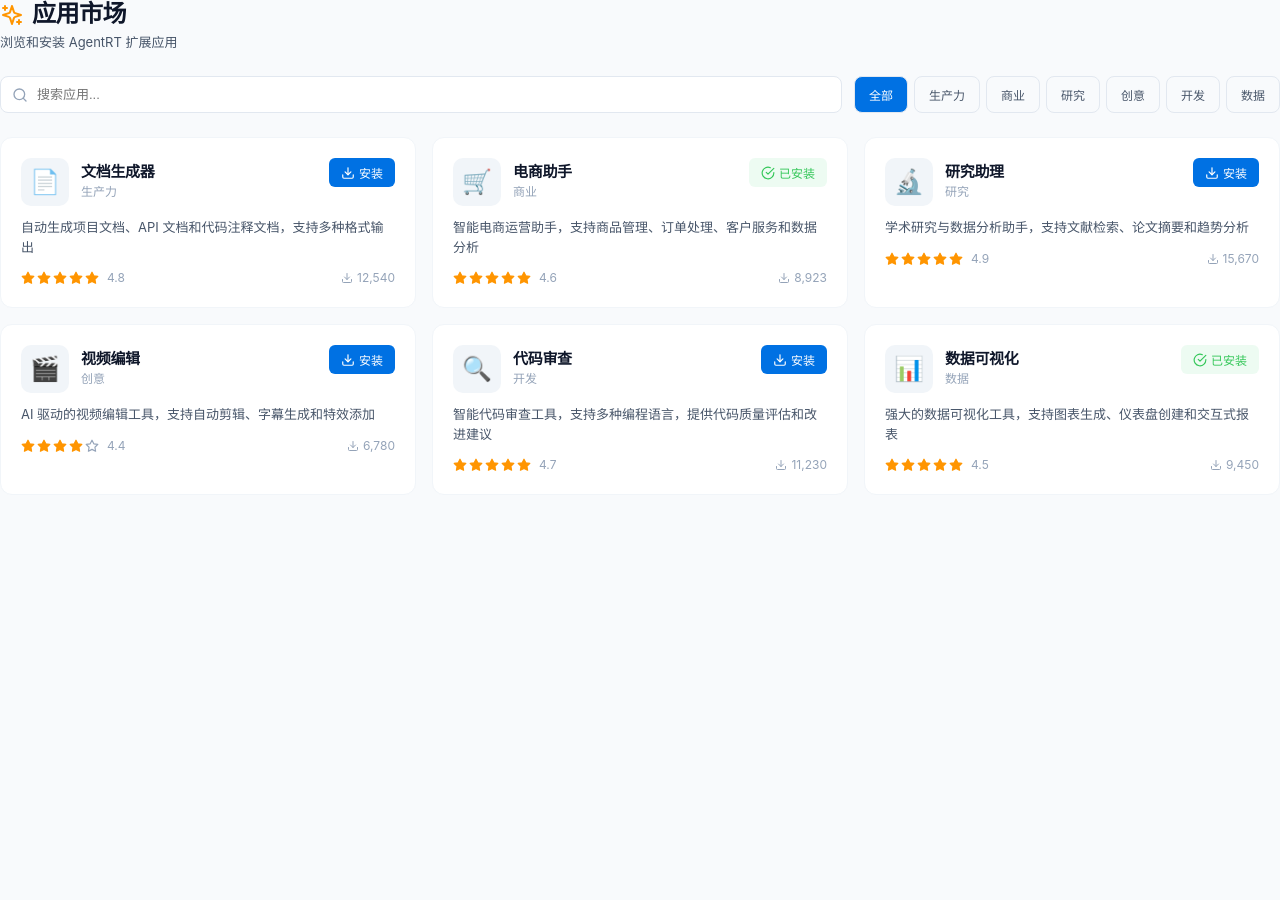
it: OpenLab › opens detail dialog when app card is clicked
The image size is (1280, 900).
Click the list item "📄 文档生成器 生产力 安装 自动生成项目文档、API 文档和代码注释文档，支持多种格式输出 4.8 12,540".
click(208, 223)  # box top-left (0, 137), bottom-right (416, 308)
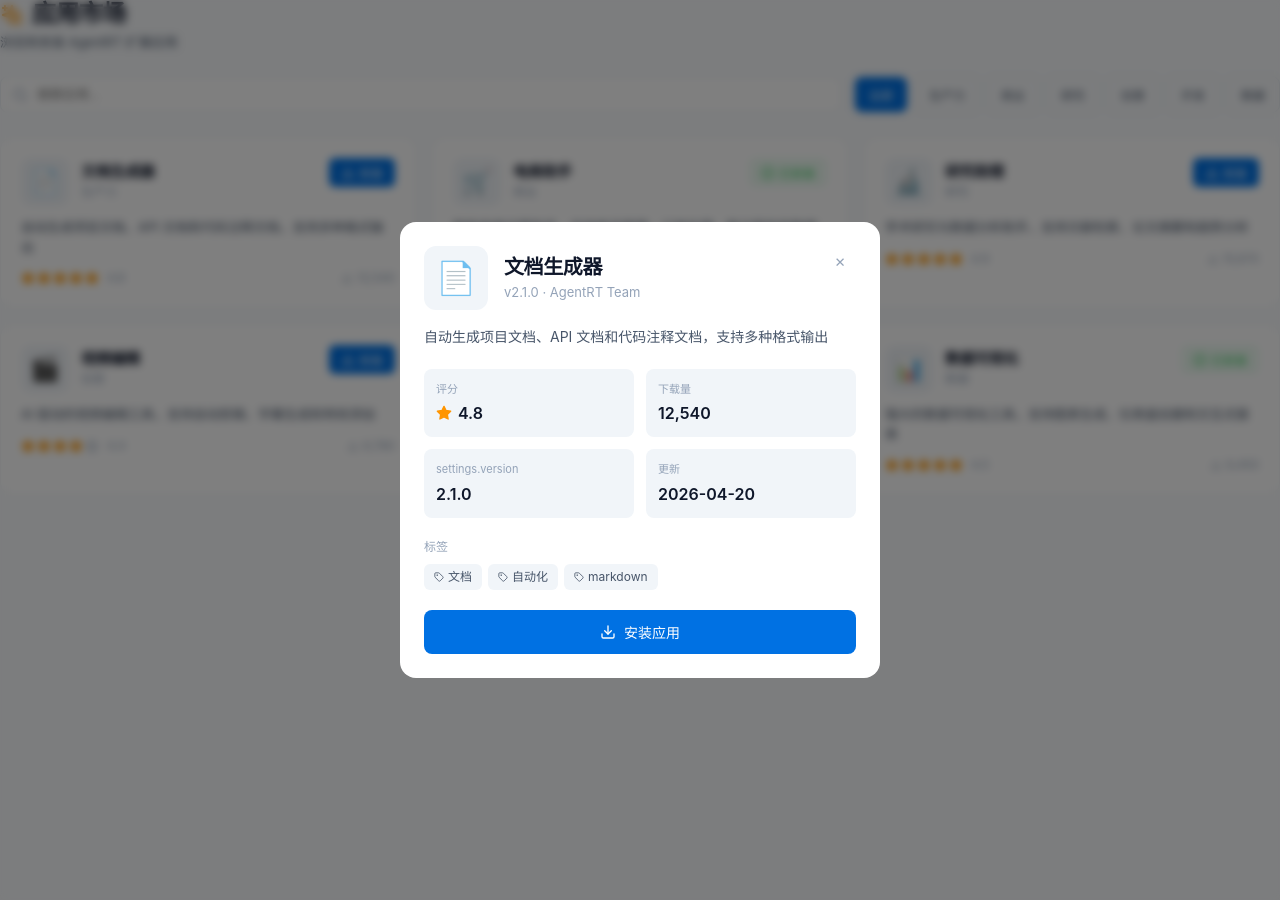
Expected: the dialog is shown
Expected: the text "v2.1.0 · AgentRT Team" is shown, top-left (504, 282), bottom-right (640, 302)
